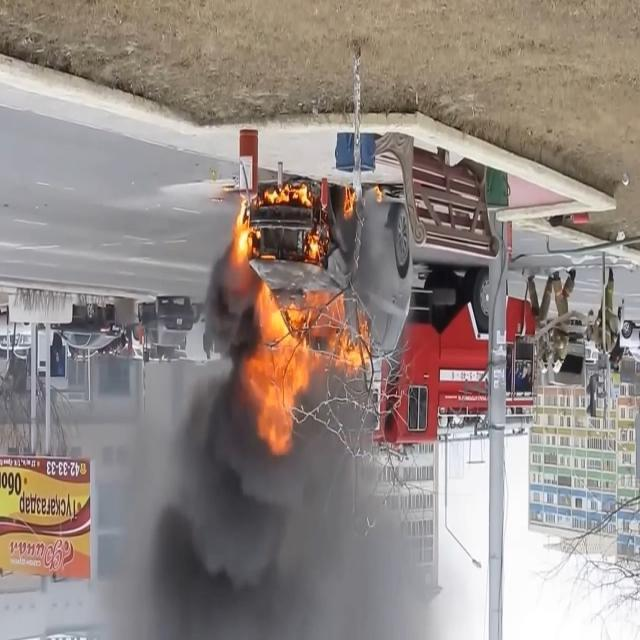fire: (227, 175, 388, 462)
